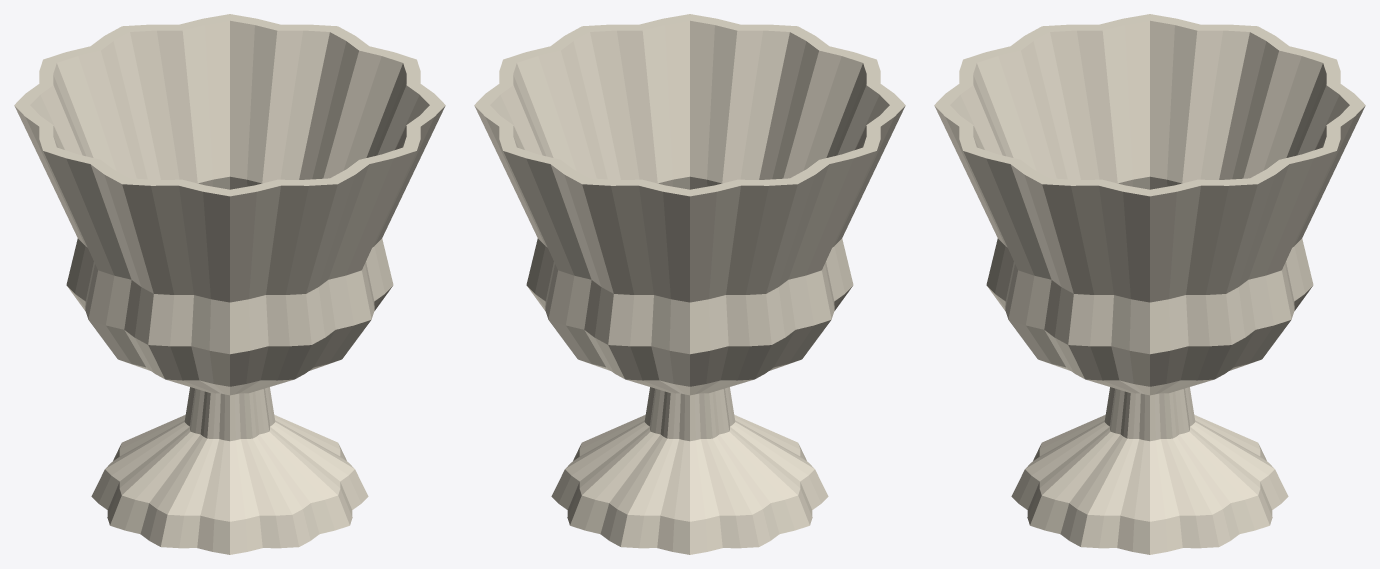
Rendered from wh-weaved-clay-pot.glb.
The picture shows the model from 3 angles, left to right: view 1: azimuth 30°, elevation 25°; view 2: azimuth 150°, elevation 25°; view 3: azimuth 270°, elevation 25°; orthographic projection.
Parts seen in each view (by area): view 1: Fluted pedestal urn.004; view 2: Fluted pedestal urn.004; view 3: Fluted pedestal urn.004.
Part boxes in pixels (box(x1,y1,x2,y2)): Fluted pedestal urn.004: box(14, 14, 445, 554); Fluted pedestal urn.004: box(474, 14, 905, 554); Fluted pedestal urn.004: box(934, 14, 1365, 554).
Size of the model in its own units: 0.2 by 0.2 by 0.2.
